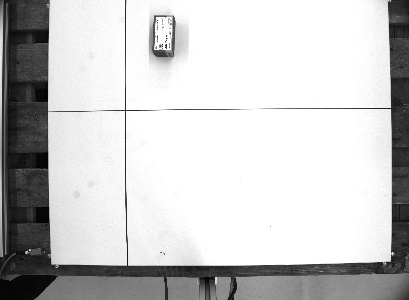b3: (149, 14, 177, 57)
